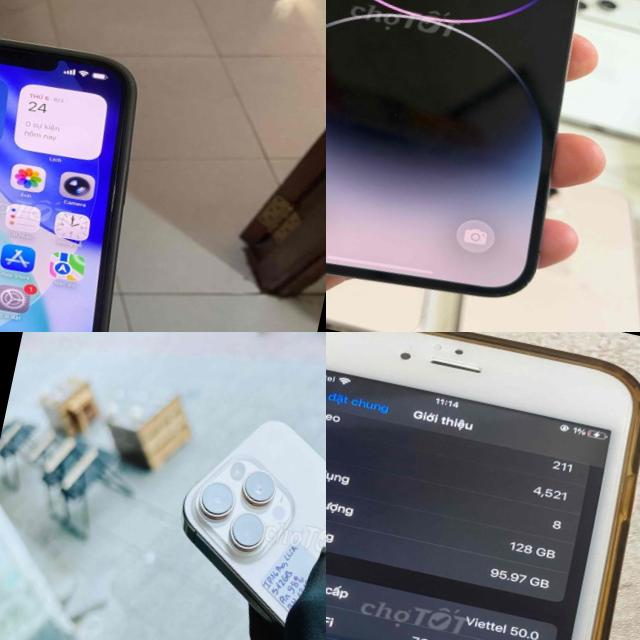gen_12_13: (0, 11, 169, 332)
gen_14: (326, 0, 640, 332)
gen_16: (126, 399, 326, 640)
gen_6: (326, 332, 640, 640)
